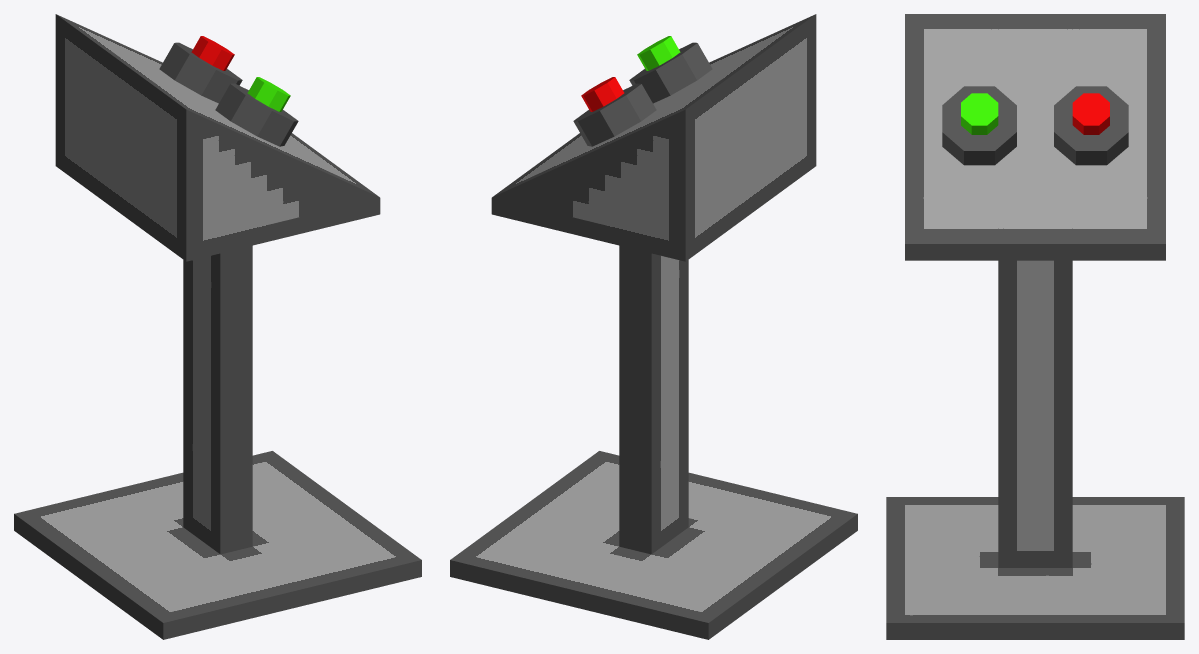
The model's file is ControlBox.fbx.
3 views of the same model, side by side, from view 1: azimuth 30°, elevation 25°; view 2: azimuth 150°, elevation 25°; view 3: azimuth 270°, elevation 25° (orthographic).
Parts seen in each view (by area): view 1: cuboid, cylinder_3, cylinder, cylinder_1, cylinder_2; view 2: cuboid, cylinder, cylinder_3, cylinder_2, cylinder_1; view 3: cuboid, cylinder, cylinder_3, cylinder_1, cylinder_2.
Boxes of the visible parts, x1,y1,x2,y2 form: cuboid: (14,14,421,639); cylinder_3: (215,83,298,146); cylinder: (159,42,242,103); cylinder_1: (247,77,290,111); cylinder_2: (191,36,234,70); cuboid: (450,14,857,639); cylinder: (573,83,656,146); cylinder_3: (629,42,712,103); cylinder_2: (581,77,624,111); cylinder_1: (637,36,680,70); cuboid: (886,14,1184,639); cylinder: (1054,86,1128,165); cylinder_3: (942,86,1016,165); cylinder_1: (961,93,998,134); cylinder_2: (1072,93,1109,134).
Size of the model in its own units: 100 by 191 by 100.
Materials: 3 (3 with a texture image).
